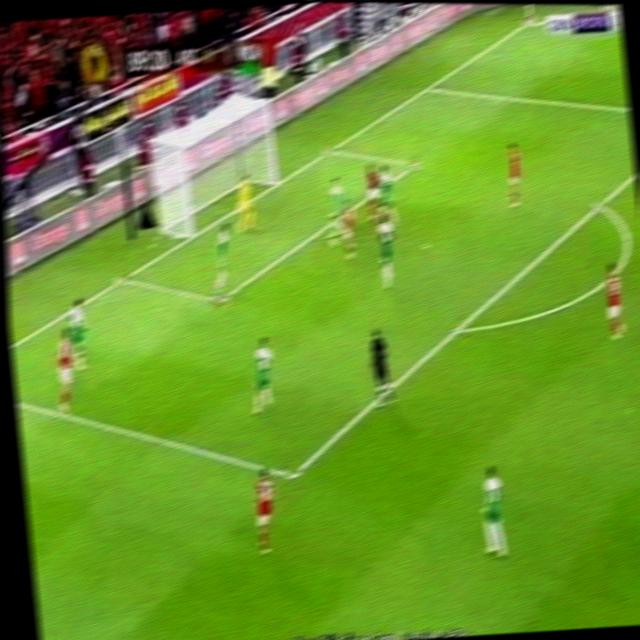bigarea_bottom_inner: (279, 459, 303, 493)
bigarea_top_outter: (419, 81, 436, 96)
bottom_arc_area_intersection: (447, 314, 470, 341)
corner: (521, 14, 543, 26)
smallarea_bottom_inner: (208, 285, 231, 312)
smallarea_bottom_outter: (113, 269, 131, 289)
smallarea_top_inner: (406, 154, 422, 174)
smallarea_top_outter: (321, 142, 336, 159)
top_arc_area_intersection: (592, 194, 606, 213)
